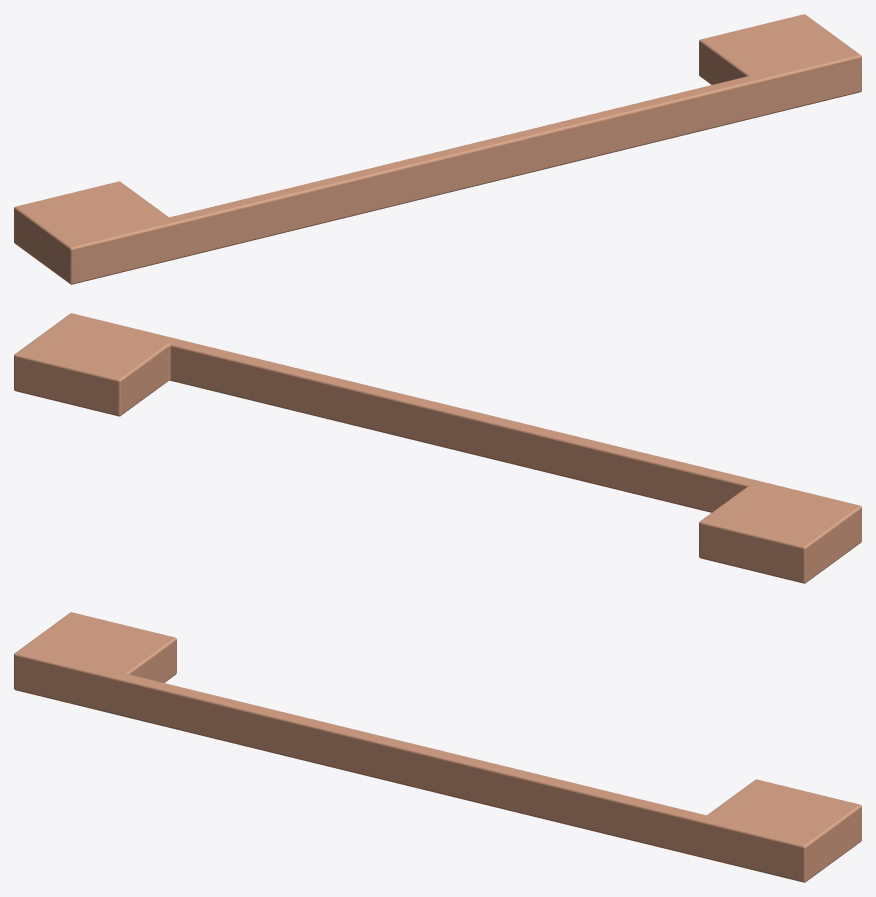
Rendered from eurofit-h-355-192sb-v3.glb.
The picture shows the model from 3 angles, top to bottom: view 1: azimuth 30°, elevation 25°; view 2: azimuth 150°, elevation 25°; view 3: azimuth 330°, elevation 25°; orthographic projection.
Parts seen in each view (by area): view 1: Continuous U grip and legs; view 2: Continuous U grip and legs; view 3: Continuous U grip and legs.
Boxes of the visible parts, bbox=[...] form: Continuous U grip and legs: bbox=[14, 14, 861, 284]; Continuous U grip and legs: bbox=[14, 313, 861, 583]; Continuous U grip and legs: bbox=[14, 612, 861, 882].
Bounding box in the file's own units: 0.222 × 0.01 × 0.028.
